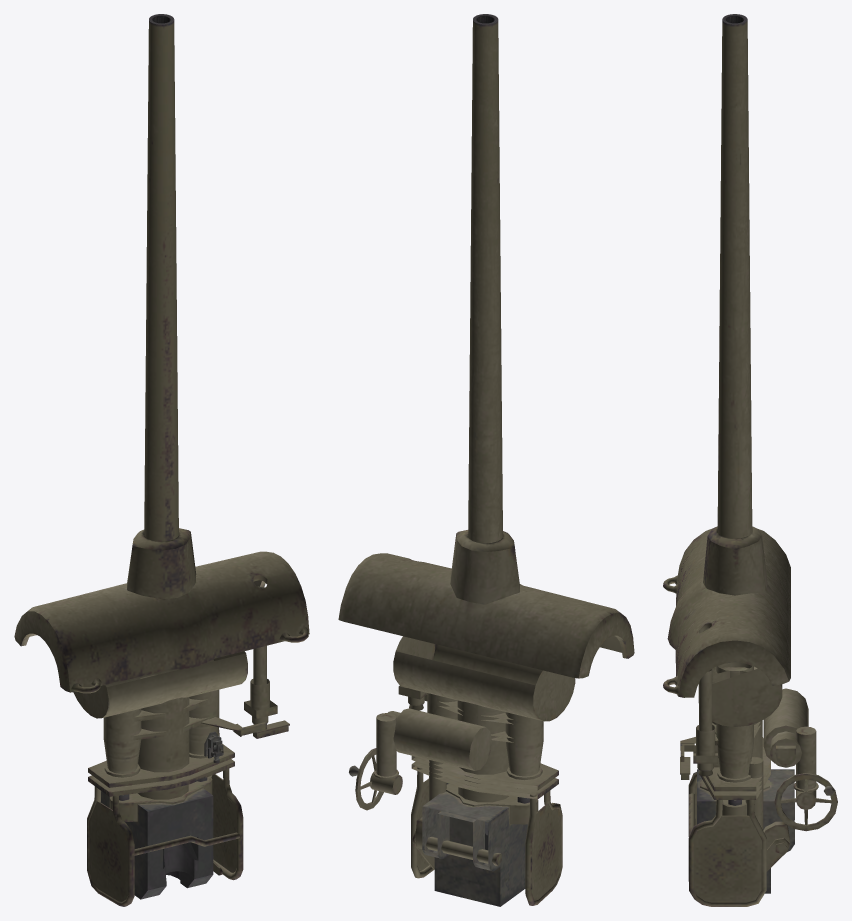
Rendered from Gun_05.glb.
3 renders of one model, left to right at view 1: azimuth 30°, elevation 25°; view 2: azimuth 150°, elevation 25°; view 3: azimuth 270°, elevation 25°, orthographic.
Visible parts, largest first — view 1: set_0_group_0; view 2: set_0_group_0; view 3: set_0_group_0.
Boxes of the visible parts, x1,y1,x2,y2 form: set_0_group_0: (14, 14, 309, 906); set_0_group_0: (338, 14, 634, 906); set_0_group_0: (663, 14, 837, 906).
Bounding box in the file's own units: 1.22 × 4.12 × 0.7601.
1 material, 1 textured.
